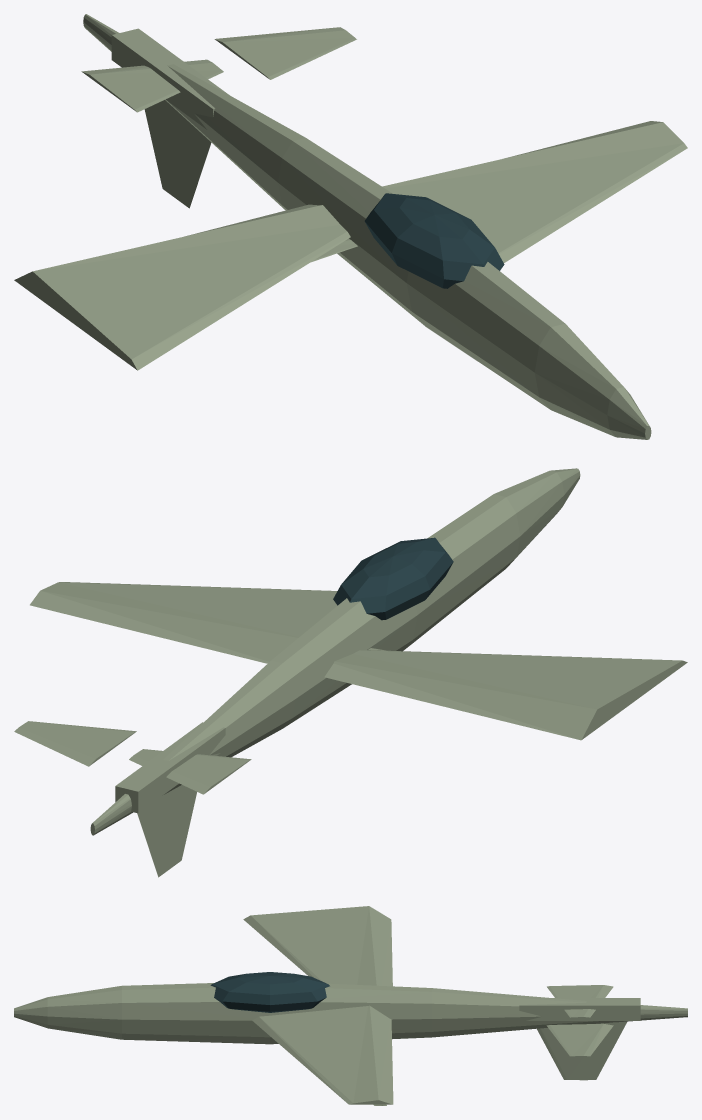
3 views of the same model, one above another, from view 1: azimuth 30°, elevation 25°; view 2: azimuth 150°, elevation 25°; view 3: azimuth 270°, elevation 25° (orthographic). The views are drawn at different scales.
Parts seen in each view (by area): view 1: Fuselage, Wing_L, Wing_R, Cockpit, Rudder, Elevator_R, TailBoom, Elevator_L; view 2: Fuselage, Wing_L, Wing_R, Cockpit, Rudder, TailBoom, Elevator_R, Elevator_L; view 3: Fuselage, Wing_R, Wing_L, Cockpit, TailBoom, Rudder, Elevator_R, Elevator_L.
Boxes of the visible parts, bbox=[...] form: Fuselage: bbox=[83, 14, 651, 439]; Wing_L: bbox=[14, 204, 350, 370]; Wing_R: bbox=[382, 121, 687, 262]; Cockpit: bbox=[364, 193, 504, 288]; Rudder: bbox=[144, 100, 211, 208]; Elevator_R: bbox=[214, 27, 356, 79]; TailBoom: bbox=[111, 28, 228, 129]; Elevator_L: bbox=[81, 59, 223, 112]; Fuselage: bbox=[90, 468, 580, 835]; Wing_L: bbox=[324, 650, 687, 740]; Wing_R: bbox=[30, 582, 337, 663]; Cockpit: bbox=[333, 537, 453, 620]; Rudder: bbox=[137, 785, 196, 877]; TailBoom: bbox=[115, 722, 225, 813]; Elevator_R: bbox=[14, 721, 136, 766]; Elevator_L: bbox=[129, 749, 251, 794]; Fuselage: bbox=[14, 983, 687, 1044]; Wing_R: bbox=[252, 1005, 393, 1104]; Wing_L: bbox=[243, 906, 392, 986]; Cockpit: bbox=[210, 972, 329, 1012]; TailBoom: bbox=[519, 998, 640, 1020]; Rudder: bbox=[537, 1021, 626, 1080]; Elevator_R: bbox=[546, 1023, 613, 1056]; Elevator_L: bbox=[547, 985, 613, 1017].
Size of the model in its own units: 10.27 by 2.67 by 15.67.
